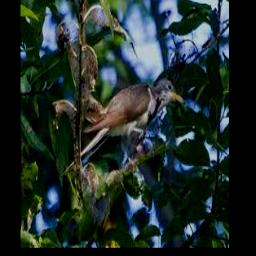Cuckoo: (61, 79, 183, 178)
